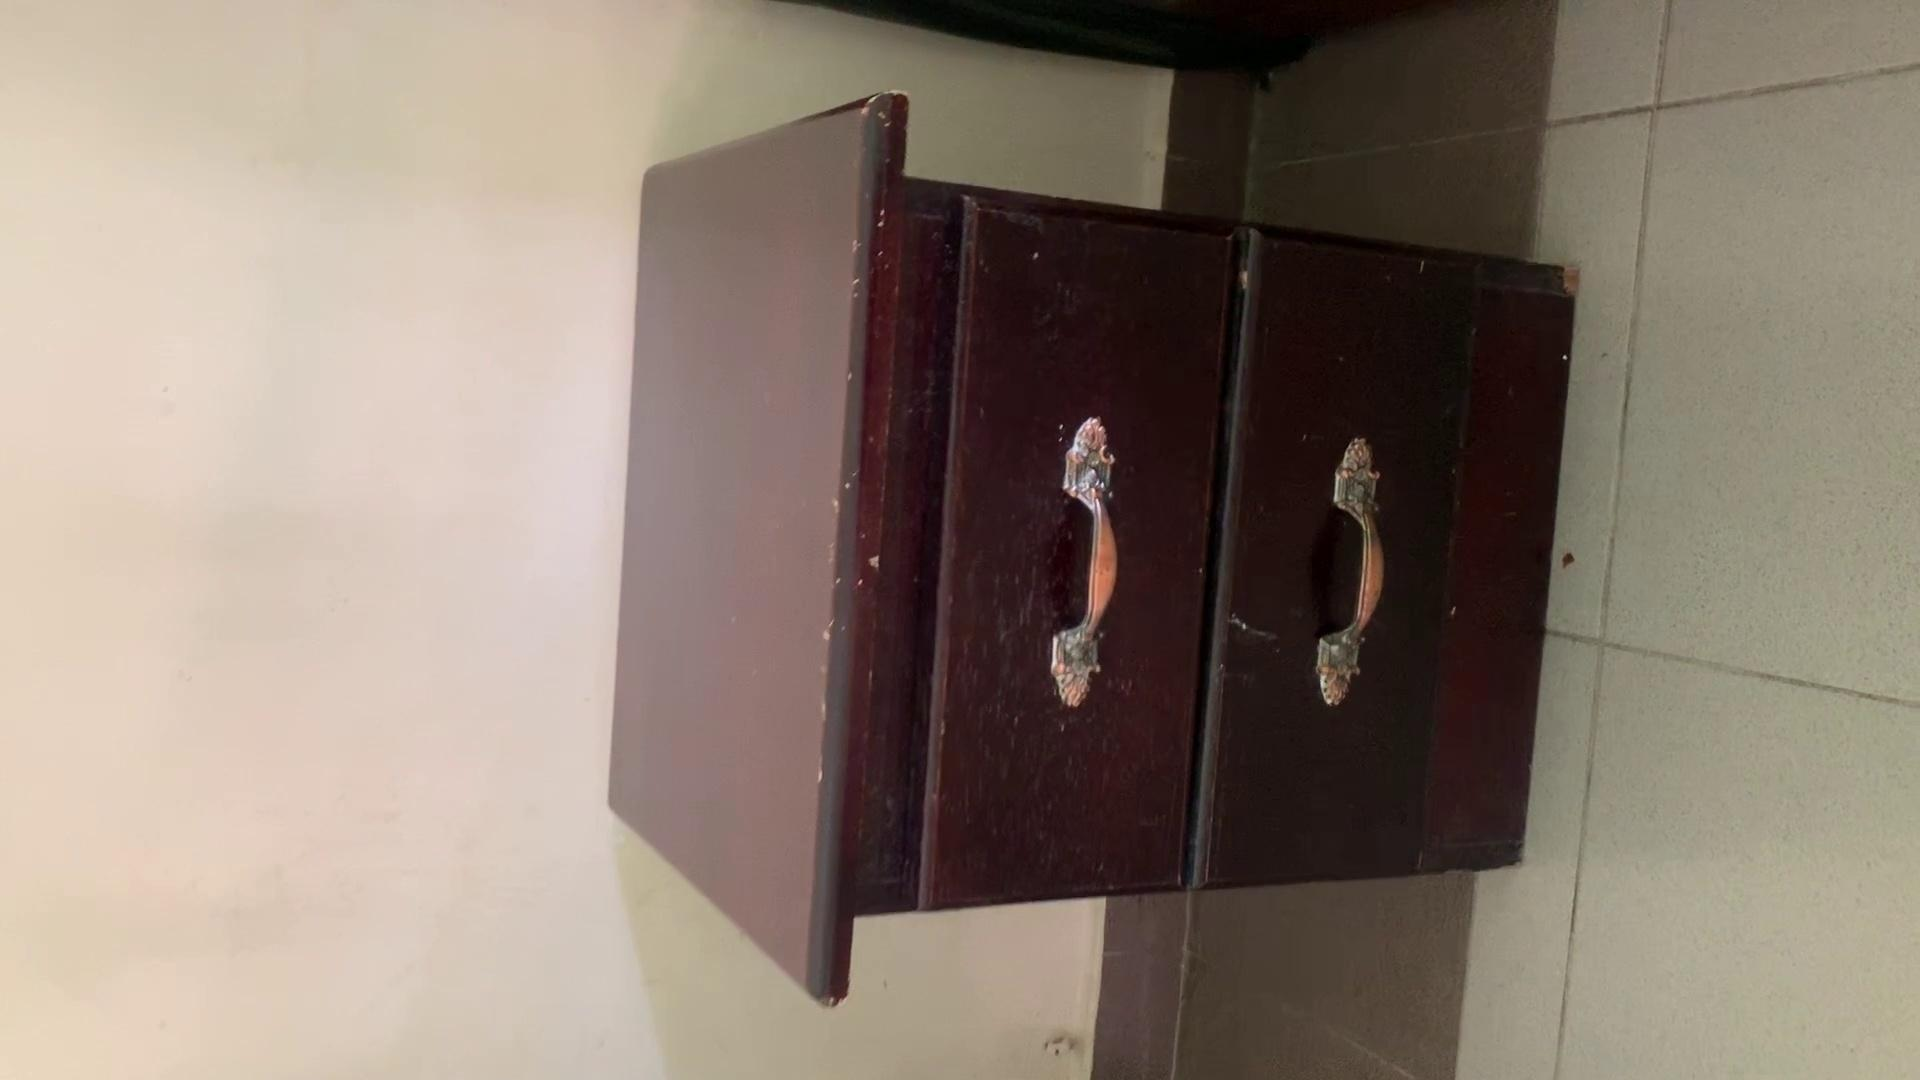cabinet_door: (948, 212, 1226, 891), (1216, 256, 1439, 886)
handle: (1038, 418, 1143, 711), (1305, 440, 1396, 707)
